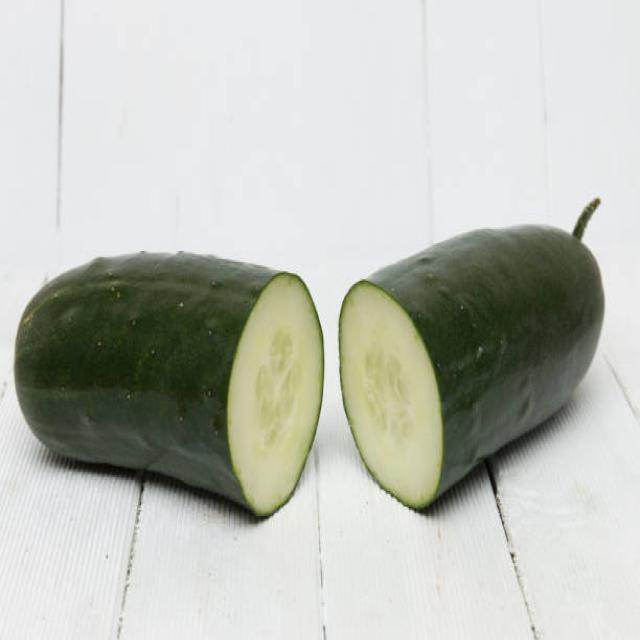cucumber: (13, 246, 324, 514), (339, 220, 606, 507)
